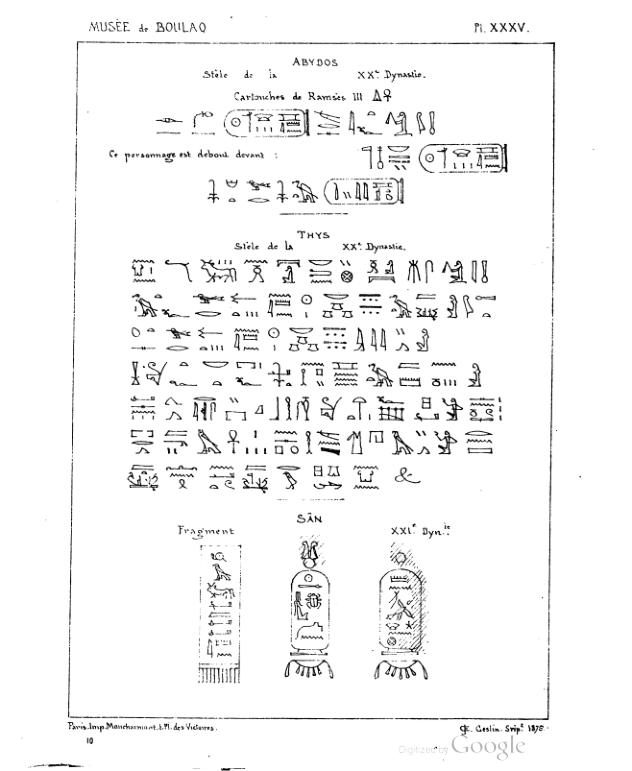circle: (374, 564, 429, 654), (285, 567, 333, 660), (418, 141, 513, 178), (319, 173, 411, 207), (223, 107, 312, 139)
